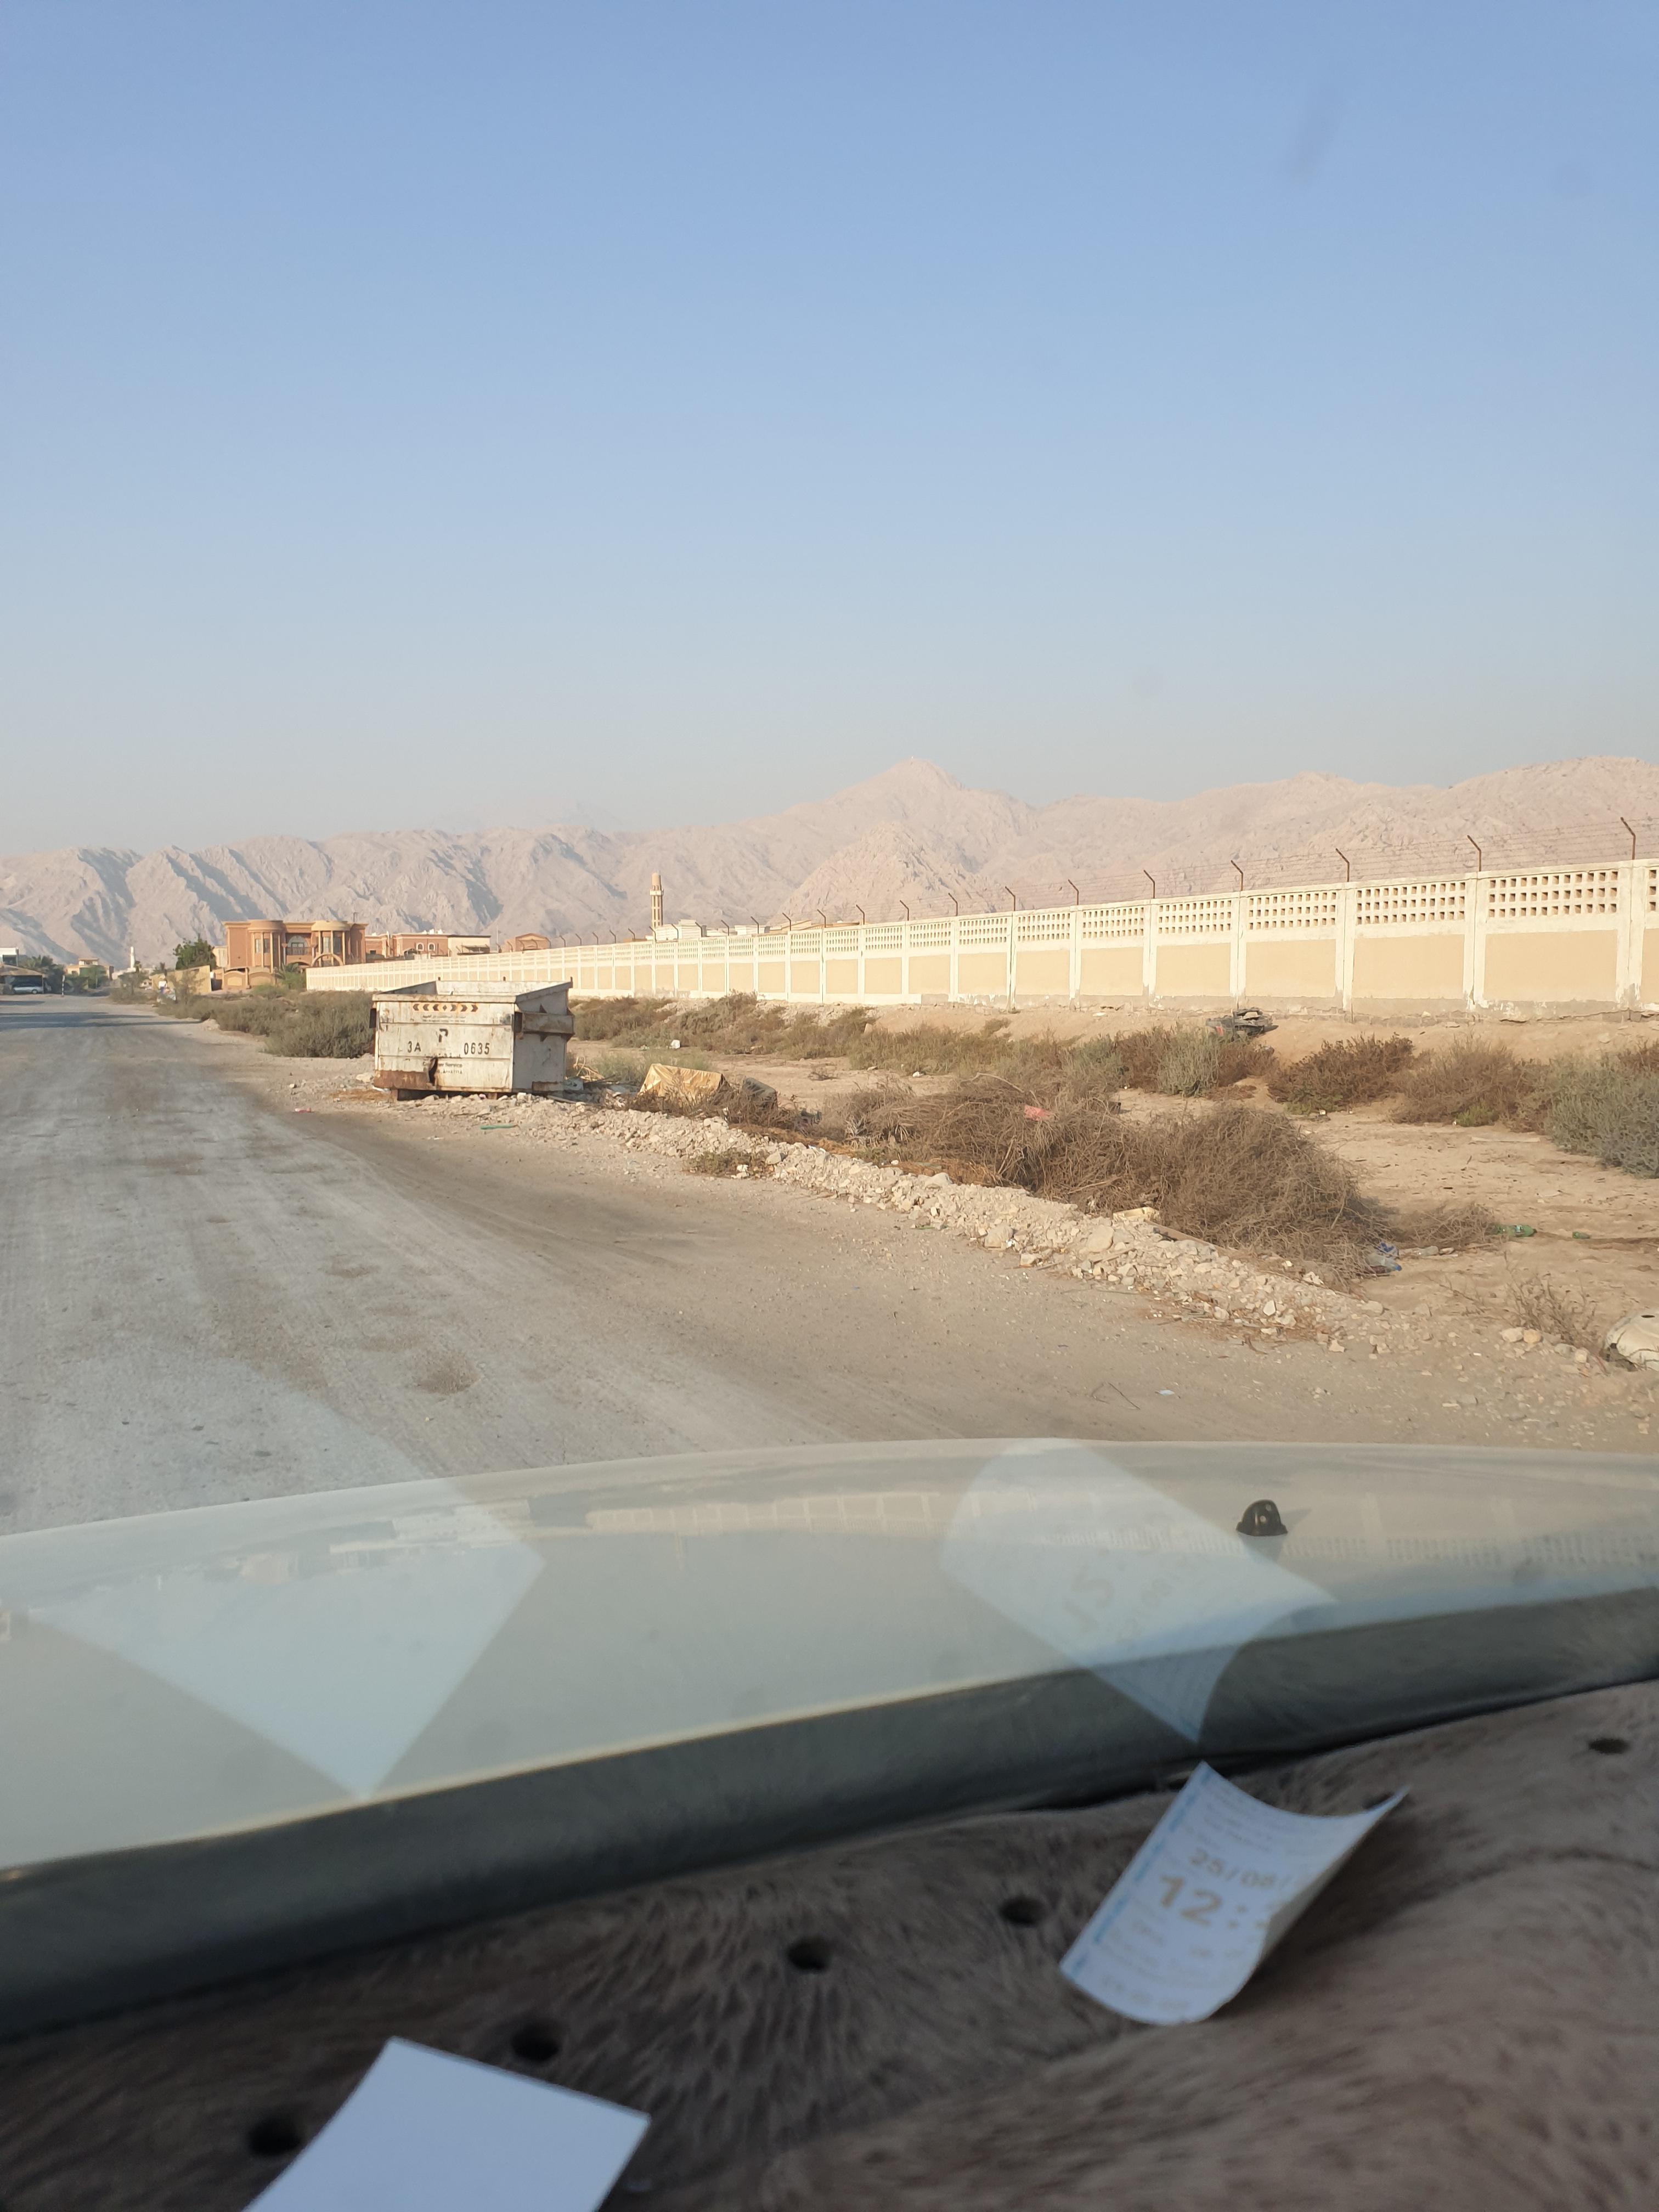uncollected_waste: (634, 1057, 798, 1130)
